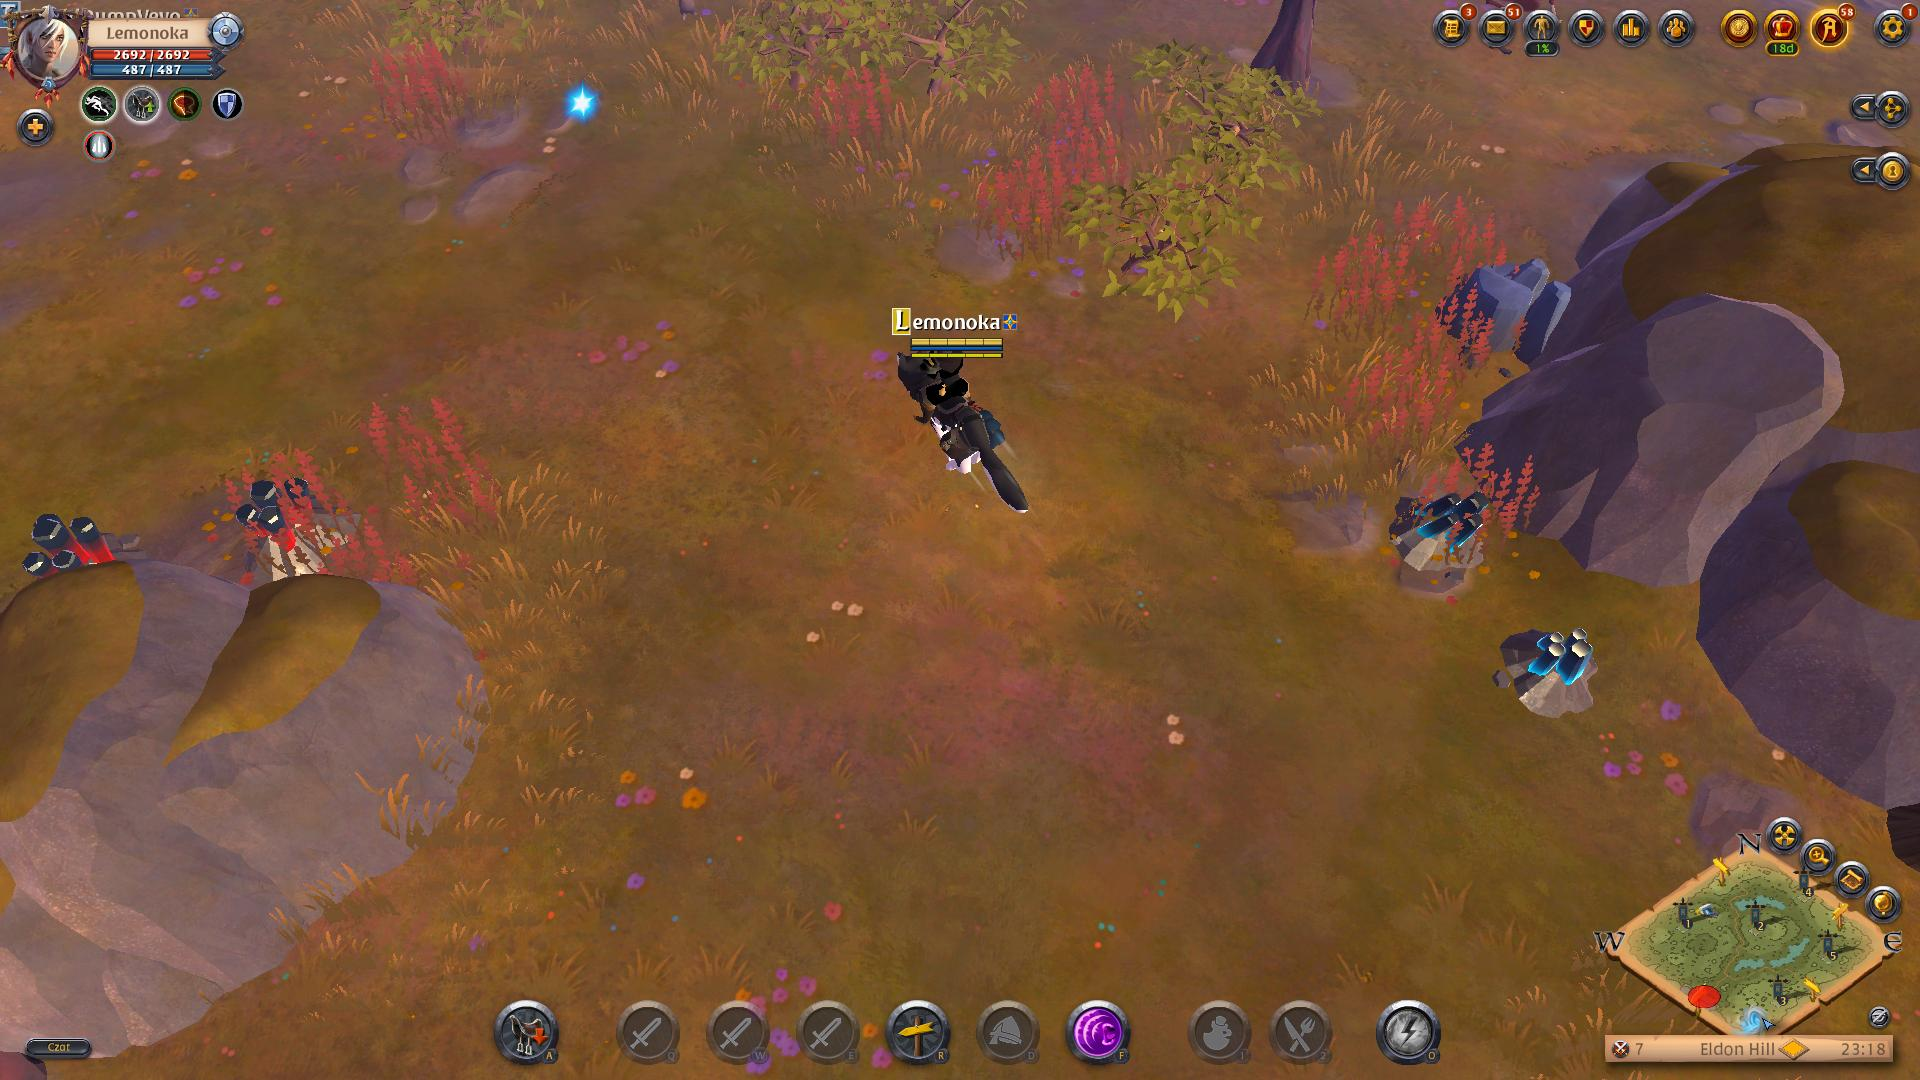ore tier 4: (1377, 485, 1498, 593), (1497, 621, 1602, 720)
ore tier 5: (228, 469, 359, 587)
rock tier 4: (1436, 253, 1578, 365)
